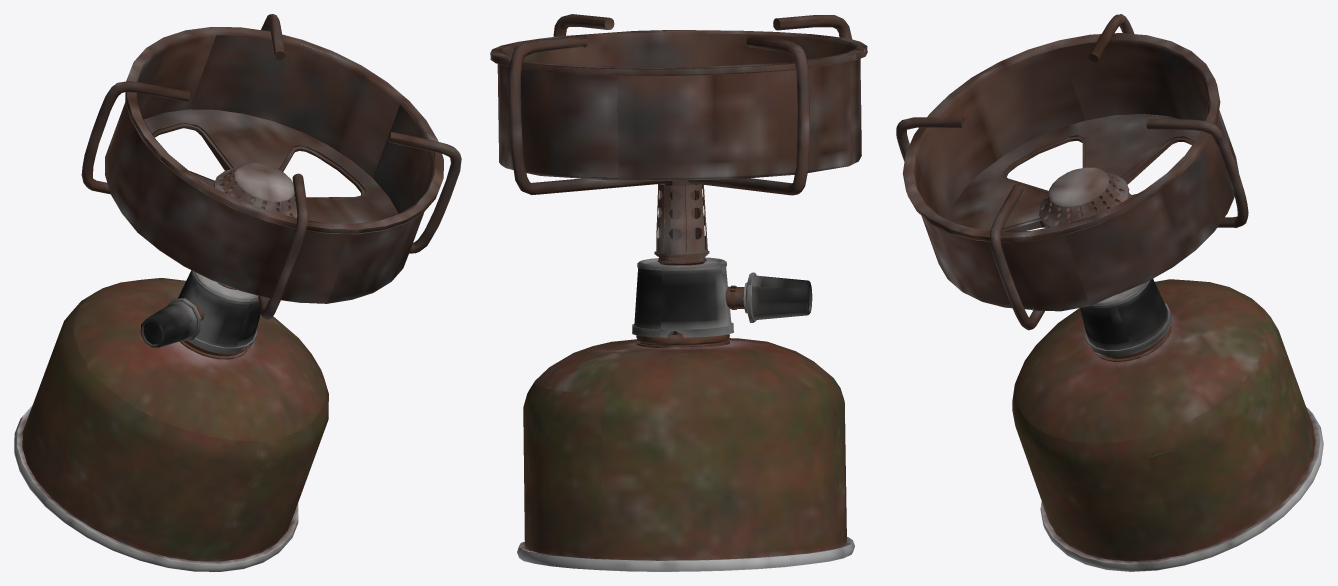
Rendered from portable-gas-camping-stove-473749.glb.
3 renders of one model, left to right at view 1: azimuth 30°, elevation 25°; view 2: azimuth 150°, elevation 25°; view 3: azimuth 270°, elevation 25°, orthographic. The views are drawn at different scales.
Visible parts, largest first — view 1: PropMesh; view 2: PropMesh; view 3: PropMesh.
Part boxes in pixels (x1,y1,x2,y2): PropMesh: [14, 14, 461, 571]; PropMesh: [490, 14, 867, 571]; PropMesh: [896, 14, 1323, 571].
Bounding box in the file's own units: 0.2554 × 0.3503 × 0.2835.
Materials: 5 (5 with a texture image).
